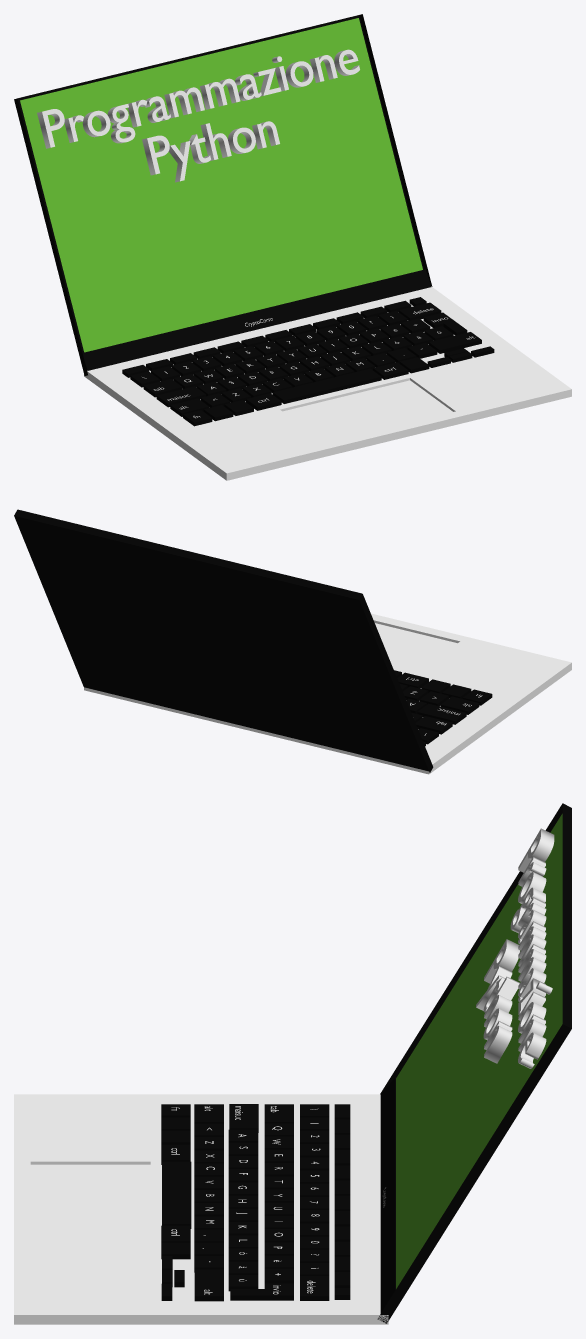
Rendered from python.glb.
3 views of the same model, one above another, from view 1: azimuth 30°, elevation 25°; view 2: azimuth 150°, elevation 25°; view 3: azimuth 270°, elevation 25° (orthographic). The views are drawn at different scales.
Parts seen in each view (by area): view 1: Cube.073, Cube, Text, Cube.074, Cube.001, Text.001, Cube.072, Cube.123; view 2: Cube.001, Cube, Cube.065, Cube.064, Cube.066, Cube.071; view 3: Cube, Cube.073, Cube.001, Text, Cube.074, Text.001, Cube.072, Cube.123, Cube.065, Cube.027.
Part boxes in pixels (x1=…): Cube.073: x1=20, y1=18, x2=422, y2=352; Cube: x1=84, y1=286, x2=571, y2=480; Text: x1=37, y1=49, x2=359, y2=148; Cube.074: x1=82, y1=269, x2=431, y2=370; Cube.001: x1=14, y1=14, x2=432, y2=375; Text.001: x1=142, y1=121, x2=279, y2=182; Cube.072: x1=272, y1=368, x2=381, y2=403; Cube.123: x1=428, y1=332, x2=481, y2=353; Cube.001: x1=14, y1=509, x2=433, y2=772; Cube: x1=84, y1=613, x2=571, y2=774; Cube.065: x1=417, y1=703, x2=466, y2=724; Cube.064: x1=440, y1=696, x2=479, y2=714; Cube.066: x1=415, y1=716, x2=452, y2=734; Cube.071: x1=397, y1=672, x2=428, y2=688; Cube: x1=14, y1=1094, x2=388, y2=1324; Cube.073: x1=396, y1=813, x2=562, y2=1288; Cube.001: x1=377, y1=803, x2=571, y2=1323; Text: x1=510, y1=828, x2=554, y2=1068; Cube.074: x1=380, y1=1077, x2=396, y2=1313; Text.001: x1=476, y1=939, x2=519, y2=1063; Cube.072: x1=162, y1=1161, x2=191, y2=1228; Cube.123: x1=194, y1=1269, x2=223, y2=1301; Cube.065: x1=229, y1=1104, x2=258, y2=1132; Cube.027: x1=300, y1=1276, x2=329, y2=1300.
Size of the model in its own units: 6.79 by 4.31 by 7.25.
